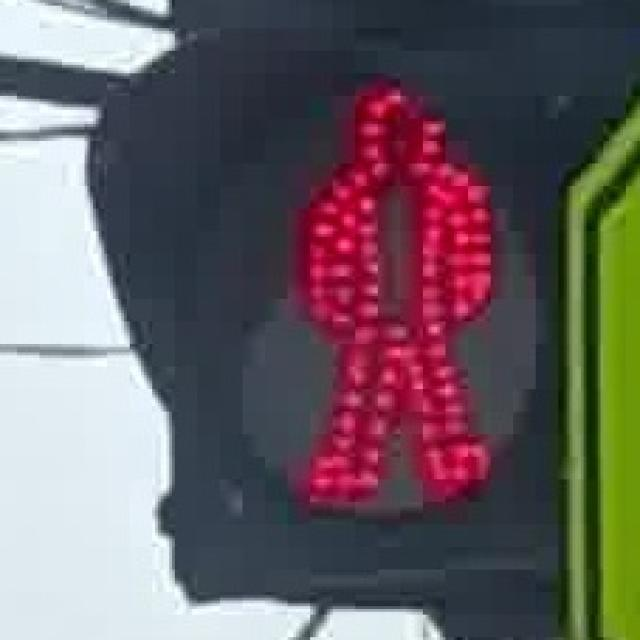red-crossing: (268, 59, 524, 510)
